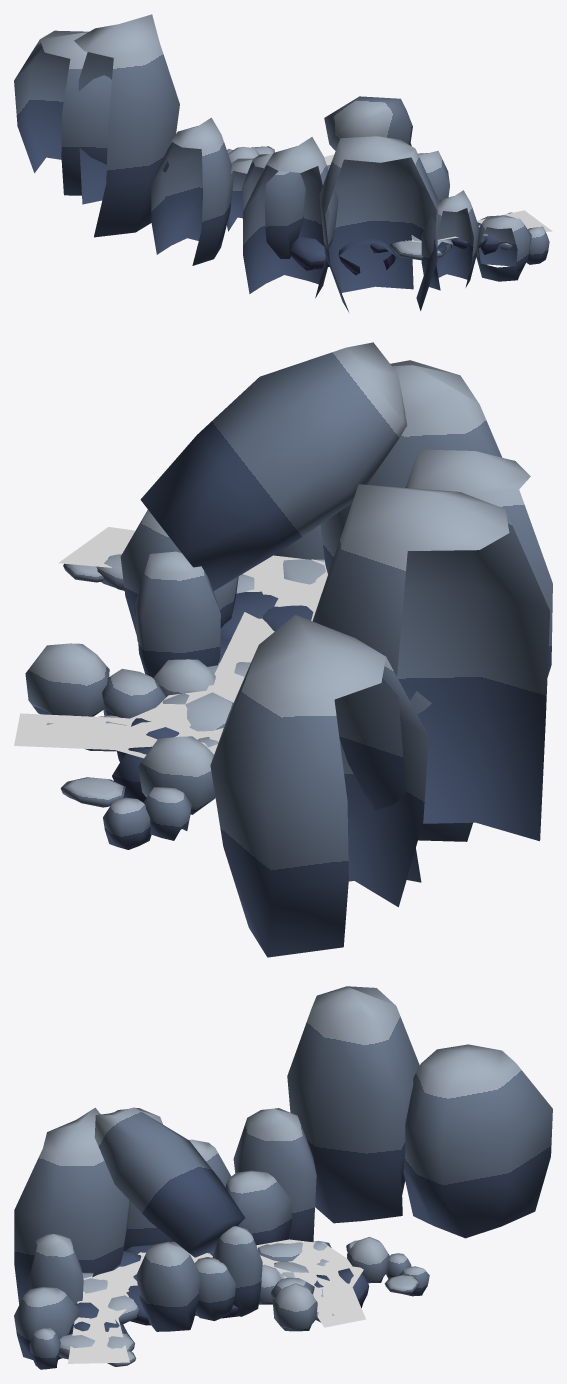
The model's file is map-s-mountain.glb.
The picture shows the model from 3 angles, top to bottom: view 1: azimuth 30°, elevation 25°; view 2: azimuth 150°, elevation 25°; view 3: azimuth 270°, elevation 25°; orthographic projection. The views are drawn at different scales.
Parts seen in each view (by area): view 1: Rock01.050, Plane.004; view 2: Rock01.050, Plane.004; view 3: Rock01.050, Plane.004.
Part boxes in pixels (x1,y1,x2,y2): Rock01.050: (14,14,549,311); Plane.004: (324,154,552,242); Rock01.050: (25,342,552,957); Plane.004: (14,527,327,758); Rock01.050: (14,986,552,1369); Plane.004: (68,1239,365,1363).
Bounding box in the file's own units: 78.2 × 46.65 × 94.64.
Materials: 1 (1 with a texture image).
